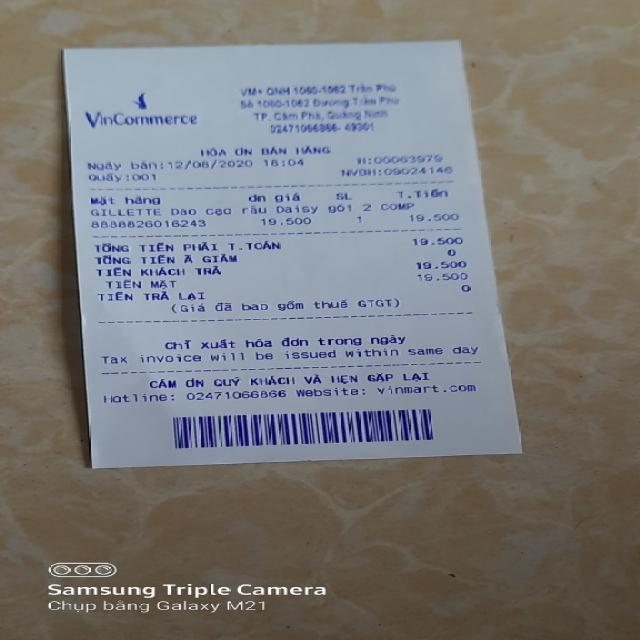Date: (165, 157, 256, 170)
Store_Name: (82, 111, 201, 130)
amount_number: (409, 236, 468, 246)
label_total: (89, 239, 282, 251)
